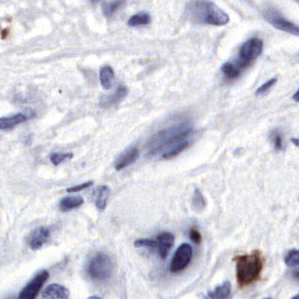Lymphocyte: (231, 251, 262, 286)
